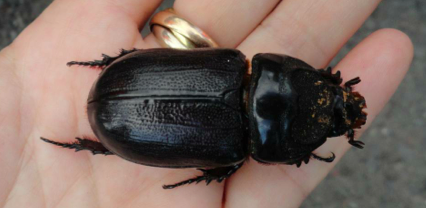coconut rhinoceros beetle: (58, 26, 382, 207)
